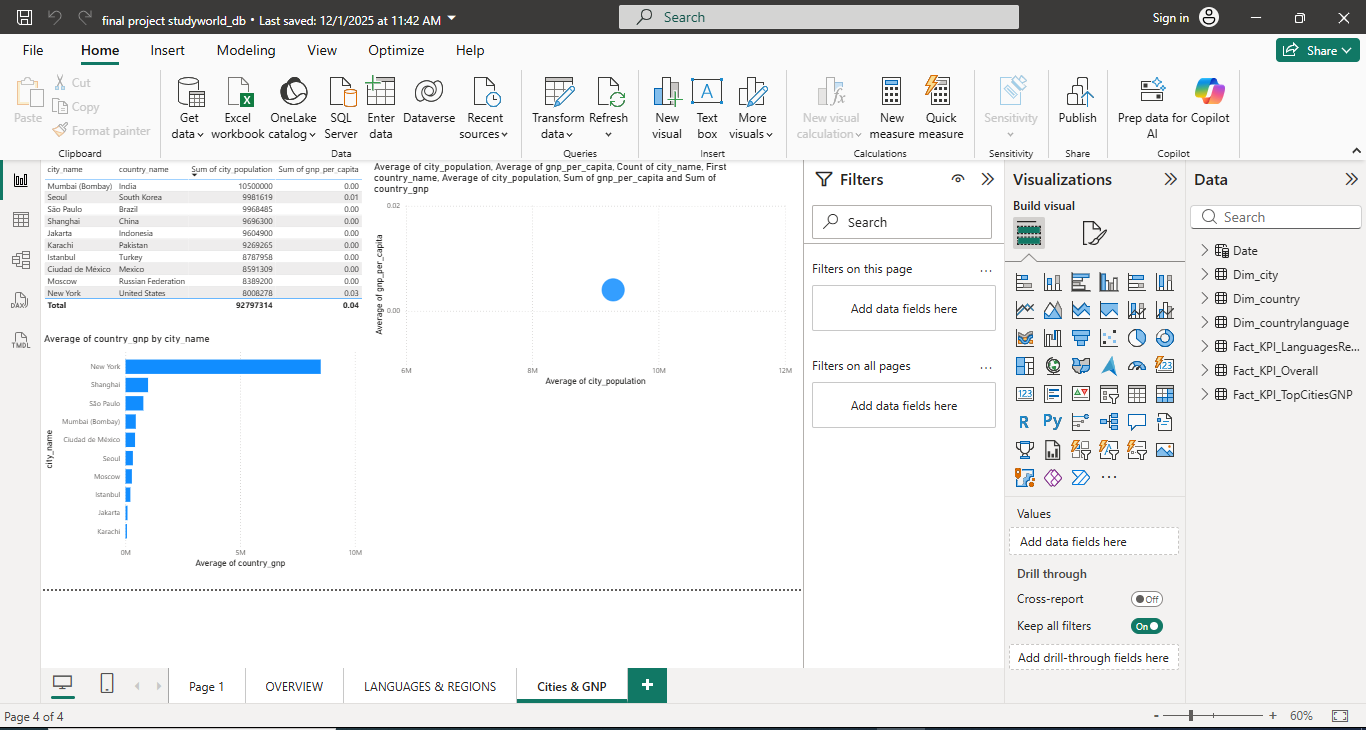

The page's visual inventory and layout, read from the dashboard file:
{"tool":"powerbi","page":{"name":"Cities & GNP","canvas":[1280,720],"ordinal":3},"visuals":[{"type":"tableEx","fields":{"Values":["Fact_KPI_TopCitiesGNP.city_name","Fact_KPI_TopCitiesGNP.country_name","Sum(Fact_KPI_TopCitiesGNP.city_population)","Sum(Fact_KPI_TopCitiesGNP.gnp_per_capita)"]},"box":[0,0,544.3,359.5],"z":0},{"type":"clusteredBarChart","fields":{"Category":["Fact_KPI_TopCitiesGNP.city_name"],"Y":["Avg(Fact_KPI_TopCitiesGNP.country_gnp)"]},"box":[0,288.9,544.3,401.5],"z":1},{"type":"scatterChart","fields":{"X":["Avg(Fact_KPI_TopCitiesGNP.city_population)"],"Y":["Avg(Fact_KPI_TopCitiesGNP.gnp_per_capita)"],"Size":["CountNonNull(Fact_KPI_TopCitiesGNP.city_name)"]},"box":[554.3,0,712.2,384.7],"z":2}]}

Visuals, with their boxes on the page's 1280x720 design canvas (x1, y1, x2, y2). These are canvas units, not pixel positions in the 1366x730 screenshot, which may show the page scaled, cropped or inside an application window:
tableEx - Fact_KPI_TopCitiesGNP.city_name x Fact_KPI_TopCitiesGNP.country_name: 0,0,544,360
clusteredBarChart - Fact_KPI_TopCitiesGNP.city_name x Avg(Fact_KPI_TopCitiesGNP.country_gnp): 0,289,544,690
scatterChart - Avg(Fact_KPI_TopCitiesGNP.city_population) x Avg(Fact_KPI_TopCitiesGNP.gnp_per_capita): 554,0,1266,385
